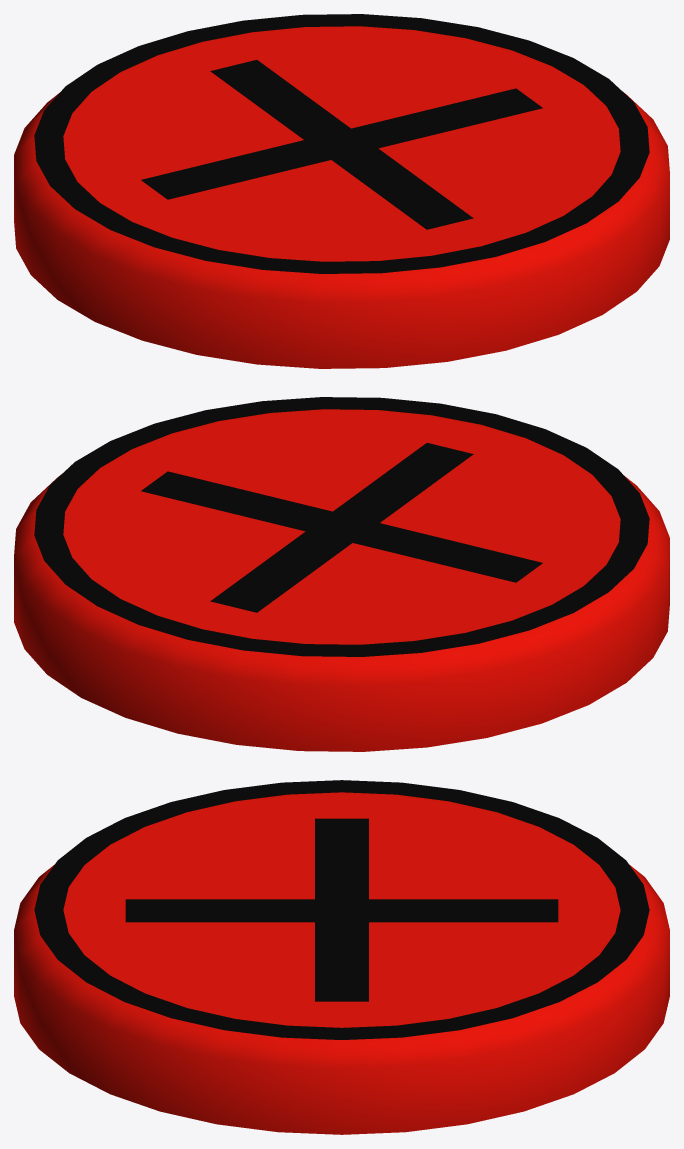
3 views of the same model, one above another, from view 1: azimuth 30°, elevation 25°; view 2: azimuth 150°, elevation 25°; view 3: azimuth 270°, elevation 25° (orthographic).
Parts seen in each view (by area): view 1: Cylinder, Cylinder.001, Plane.001, Plane; view 2: Cylinder, Cylinder.001, Plane.001, Plane; view 3: Cylinder, Cylinder.001, Plane.001, Plane.
Boxes of the visible parts, bbox=[...] form: Cylinder: bbox=[14, 26, 669, 368]; Cylinder.001: bbox=[34, 14, 649, 273]; Plane.001: bbox=[141, 88, 542, 199]; Plane: bbox=[210, 60, 473, 229]; Cylinder: bbox=[14, 409, 669, 751]; Cylinder.001: bbox=[34, 397, 649, 656]; Plane.001: bbox=[141, 471, 542, 582]; Plane: bbox=[210, 443, 473, 612]; Cylinder: bbox=[14, 792, 669, 1134]; Cylinder.001: bbox=[34, 780, 649, 1039]; Plane.001: bbox=[315, 818, 368, 1001]; Plane: bbox=[125, 899, 558, 922].
Bounding box in the file's own units: 389 × 56.33 × 389.
